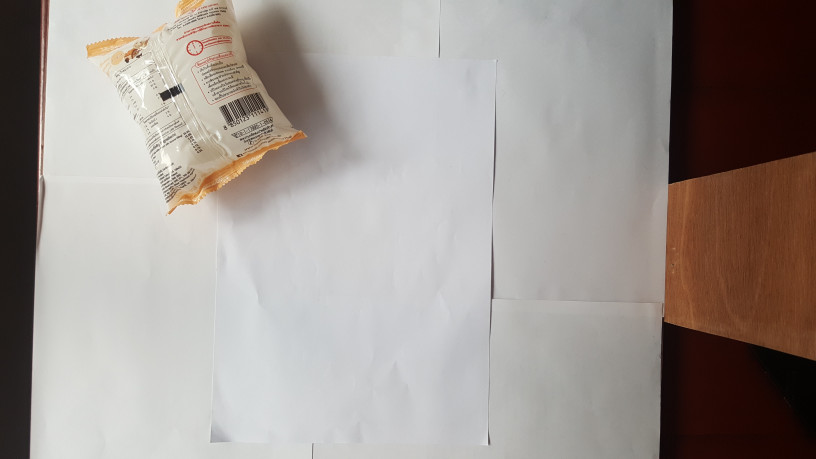farmhouse-sweetsandwich-almond: (72, 1, 314, 222)
